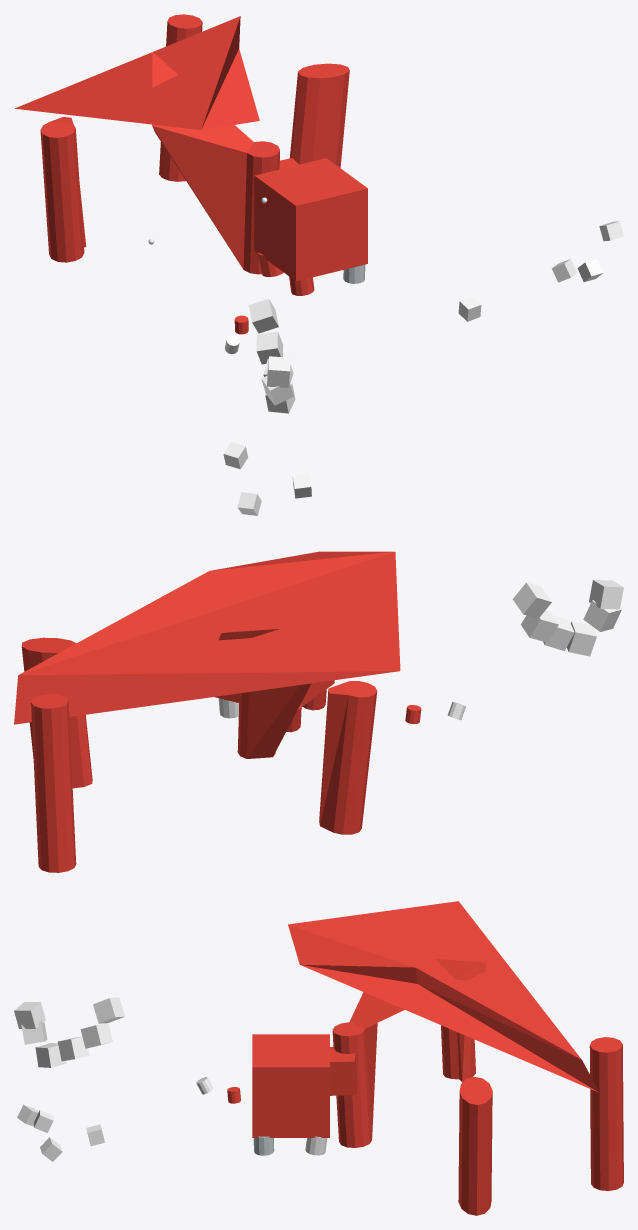
3 views of the same model, one above another, from view 1: azimuth 30°, elevation 25°; view 2: azimuth 150°, elevation 25°; view 3: azimuth 270°, elevation 25° (orthographic). The views are drawn at different scales.
Visible parts, largest first — view 1: mesh_514578520, mesh_398128665, mesh_1345208312, mesh_921840631, mesh_1847433301, mesh_1759895174, mesh_945905454, mesh_345520803, mesh_1761366471; view 2: mesh_514578520, mesh_921840631, mesh_1759895174, mesh_1345208312, mesh_1847433301, mesh_945905454, mesh_345520803, mesh_1761366471, mesh_1037513641, mesh_677835455, mesh_45924148; view 3: mesh_514578520, mesh_398128665, mesh_1345208312, mesh_1759895174, mesh_1847433301, mesh_921840631, mesh_567138066, mesh_345520803, mesh_945905454, mesh_1761366471, mesh_45924148, mesh_1037513641.
Part boxes in pixels (x1,y1,x2,y2): mesh_514578520: [15, 16, 259, 129]; mesh_398128665: [254, 158, 367, 281]; mesh_1345208312: [152, 52, 279, 274]; mesh_921840631: [40, 117, 86, 262]; mesh_1847433301: [290, 63, 349, 167]; mesh_1759895174: [159, 14, 202, 181]; mesh_945905454: [248, 298, 278, 333]; mesh_345520803: [267, 356, 290, 387]; mesh_1761366471: [256, 331, 283, 364]; mesh_514578520: [14, 551, 400, 724]; mesh_921840631: [319, 681, 377, 834]; mesh_1759895174: [31, 694, 76, 872]; mesh_1345208312: [218, 629, 311, 758]; mesh_1847433301: [21, 637, 92, 788]; mesh_945905454: [512, 582, 551, 618]; mesh_345520803: [589, 580, 623, 609]; mesh_1761366471: [521, 610, 558, 642]; mesh_1037513641: [567, 621, 596, 656]; mesh_677835455: [583, 600, 621, 631]; mesh_45924148: [543, 615, 574, 650]; mesh_514578520: [288, 901, 599, 1092]; mesh_398128665: [252, 1034, 329, 1137]; mesh_1345208312: [332, 959, 486, 1147]; mesh_1759895174: [589, 1037, 623, 1190]; mesh_1847433301: [458, 1076, 492, 1215]; mesh_921840631: [441, 1025, 475, 1082]; mesh_567138066: [330, 1047, 357, 1095]; mesh_345520803: [14, 1002, 45, 1028]; mesh_945905454: [93, 997, 124, 1023]; mesh_1761366471: [80, 1023, 112, 1048]; mesh_45924148: [58, 1036, 89, 1061]; mesh_1037513641: [35, 1043, 66, 1067].
Size of the model in its own units: 225 by 119 by 331.
